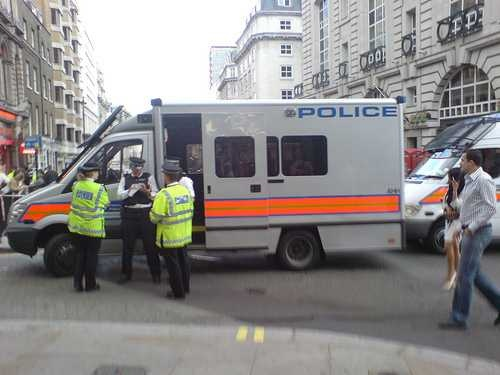Police Van: (0, 81, 408, 285)
